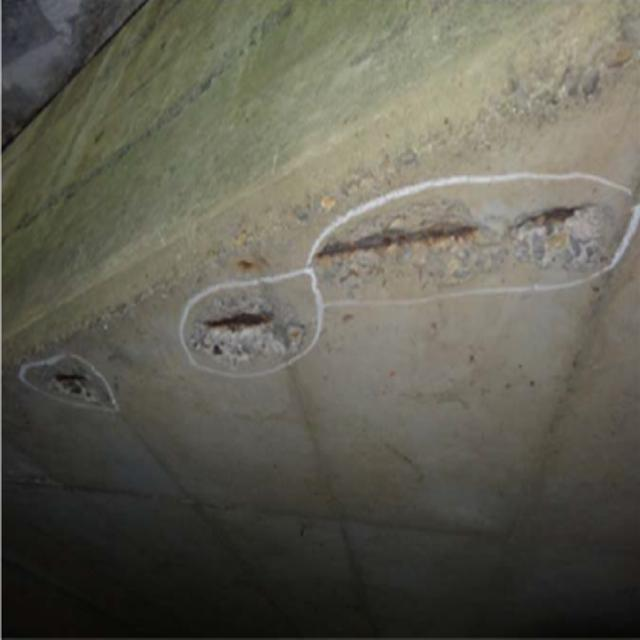spalling: (332, 174, 628, 286), (188, 263, 302, 383), (24, 338, 130, 413)
